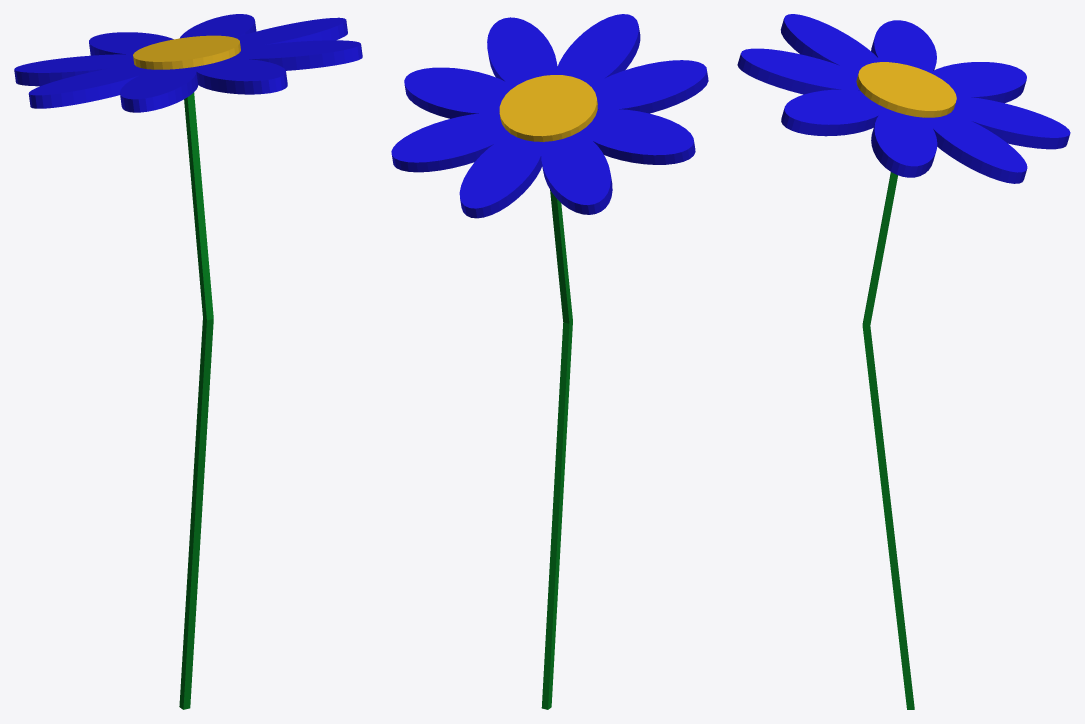
The model's file is Vasilek.fbx.
3 renders of one model, left to right at view 1: azimuth 30°, elevation 25°; view 2: azimuth 150°, elevation 25°; view 3: azimuth 270°, elevation 25°, orthographic. The views are drawn at different scales.
Visible parts, largest first — view 1: Cylinder; view 2: Cylinder; view 3: Cylinder.
Part boxes in pixels (<box>): Cylinder: <box>14,14,362,709</box>; Cylinder: <box>391,14,708,709</box>; Cylinder: <box>737,14,1070,709</box>.
Bounding box in the file's own units: 0.2911 × 0.6163 × 0.2842.
